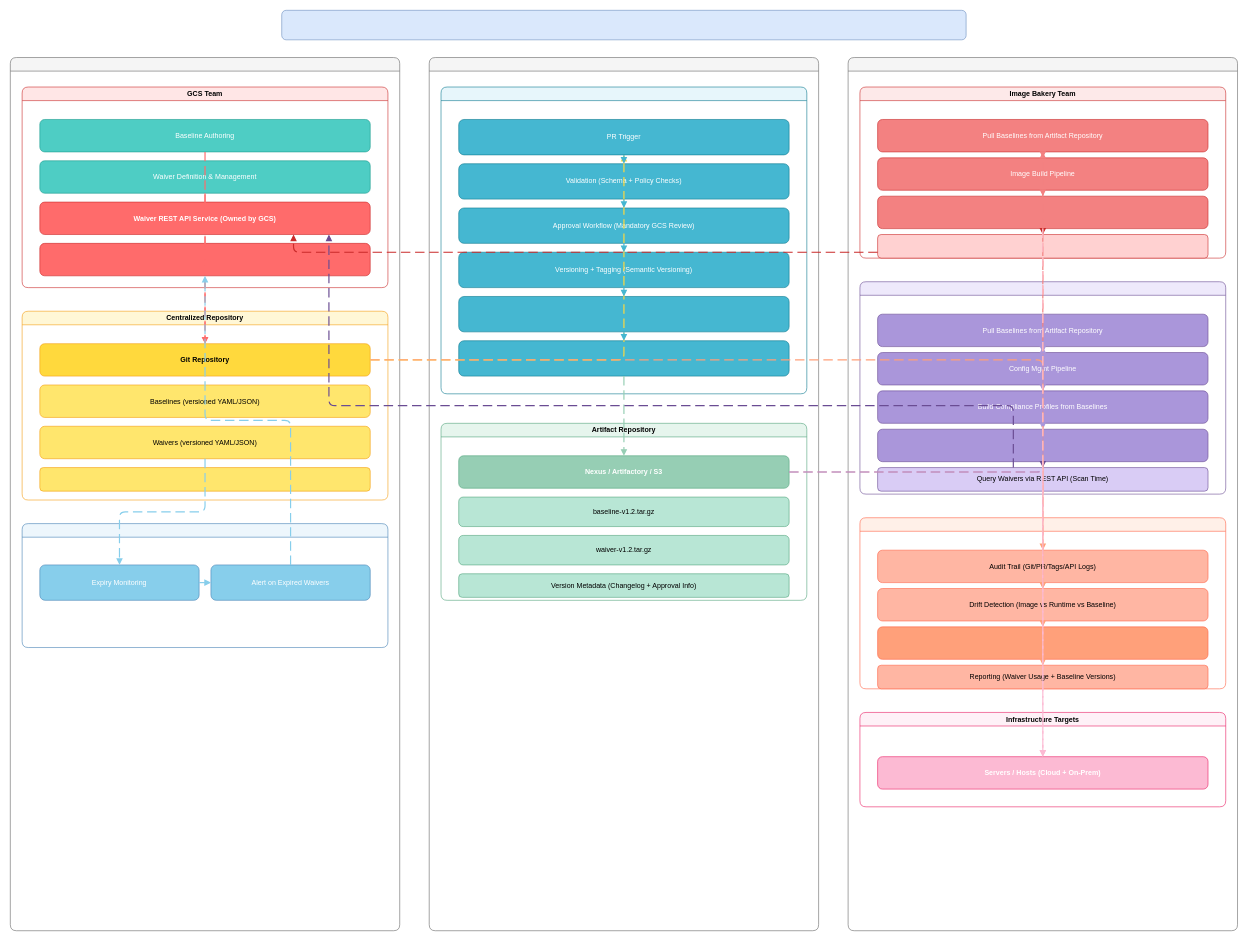
The diagram is 1248 pixels wide and 941 high, and some of its shapes have lost their labels. The box of each missing label's shape, as (x1, y1, x2, y2) in pixels:
Artifact Generation (baseline-package + waiver-package): (458, 296, 789, 332)
Bake Image with Baselines: (877, 196, 1208, 229)
CI/CD Pipeline: (440, 86, 807, 394)
Column 1: Governance + Source of Truth (GCS): (10, 57, 400, 931)
Column 2: Delivery Pipeline + Artifacts: (429, 57, 819, 931)
Column 3: Consumption + Runtime + Reporting: (848, 57, 1238, 931)
Compliance Architecture V2 - REST Waivers (3-Column Layout): (281, 10, 966, 40)
Compliance Dashboard: (877, 626, 1208, 659)
Configuration Management Team: (859, 281, 1226, 494)
GCS Review + Sign-off: (39, 243, 370, 276)
Observability + Audit: (859, 517, 1226, 689)
Publish to Artifact Repository: (458, 340, 789, 376)
Query Waivers via REST API (Build Time): (877, 234, 1208, 258)
Scan Hosts for Compliance: (877, 429, 1208, 462)
Schemas & Policies: (39, 467, 370, 491)
Waiver Lifecycle Management: (22, 523, 388, 648)
